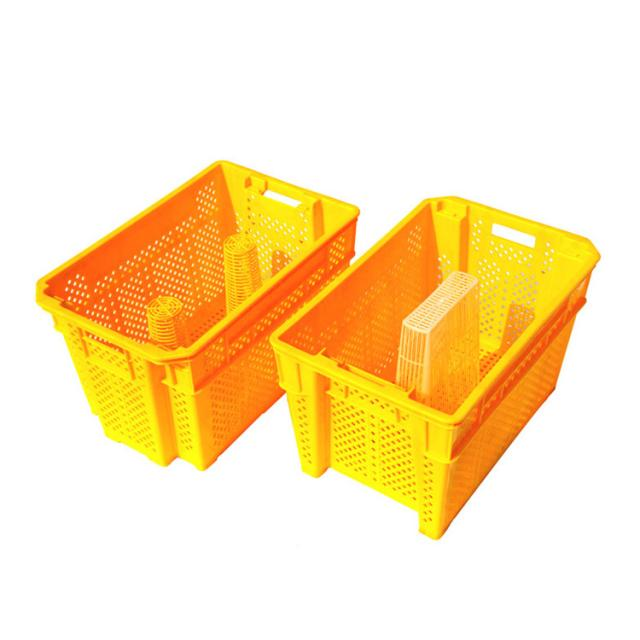basket: (6, 100, 428, 506)
